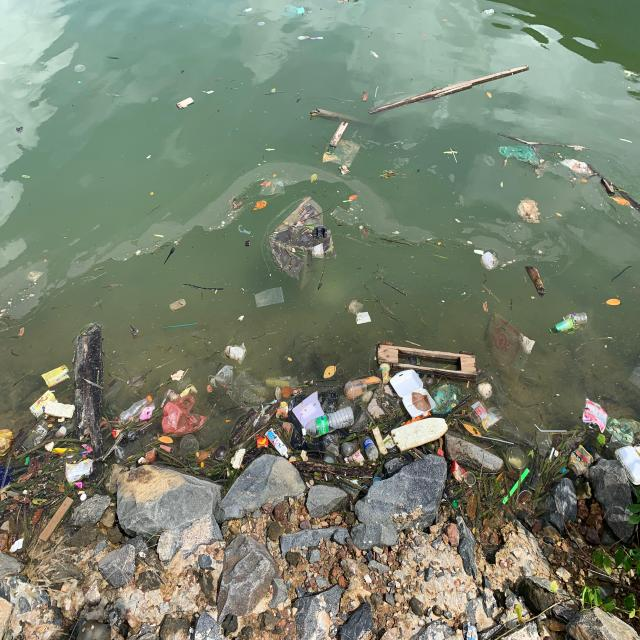Botol Plastik: (302, 407, 356, 437), (120, 396, 153, 426), (361, 435, 380, 463), (549, 319, 578, 337), (563, 313, 589, 327), (340, 441, 358, 458), (81, 494, 88, 503)
Bungkus Makanan: (486, 312, 538, 386), (390, 370, 437, 417), (614, 443, 640, 487), (65, 459, 95, 484), (42, 365, 71, 388), (471, 401, 490, 423), (450, 461, 467, 485)
Bungkus Minuman: (569, 445, 595, 477), (344, 380, 369, 401), (277, 401, 291, 420), (381, 363, 391, 386), (464, 472, 477, 487), (340, 166, 352, 177)
Kantong Plastik: (163, 396, 208, 437), (498, 146, 541, 173), (332, 139, 362, 168), (254, 286, 286, 310), (518, 197, 542, 227), (210, 366, 235, 389), (480, 251, 501, 272), (1, 428, 15, 458), (283, 4, 307, 19), (348, 300, 365, 317), (481, 7, 496, 20)
